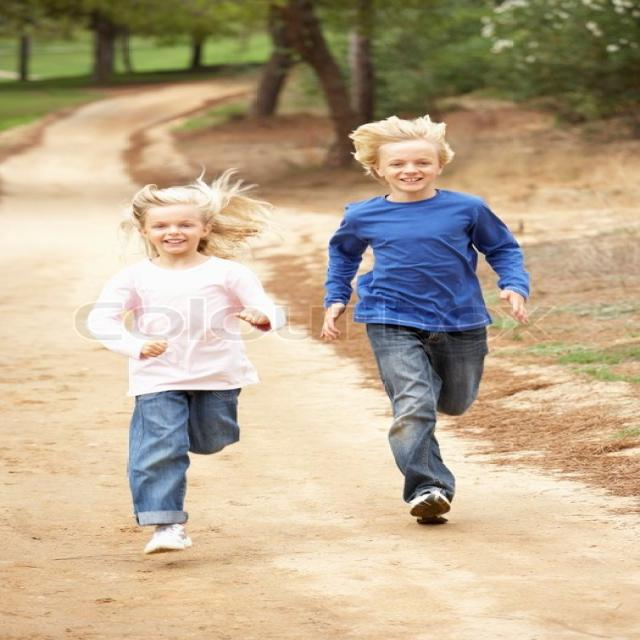Person: (322, 117, 531, 527), (84, 178, 291, 559)
